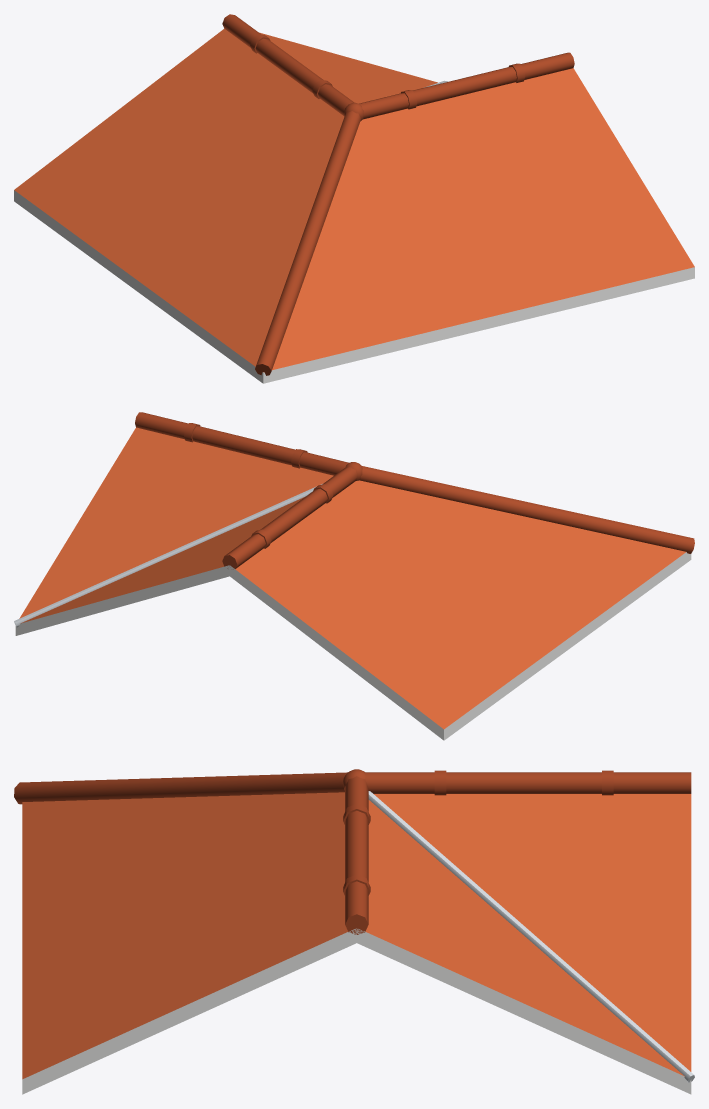
Rendered from telhado_canto_l_v4_i50.glb.
3 renders of one model, top to bottom at view 1: azimuth 30°, elevation 25°; view 2: azimuth 150°, elevation 25°; view 3: azimuth 270°, elevation 25°, orthographic. The views are drawn at different scales.
Parts seen in each view (by area): view 1: telhado_canto_l_v4_i50; view 2: telhado_canto_l_v4_i50; view 3: telhado_canto_l_v4_i50.
Part boxes in pixels (bbox=[...]): telhado_canto_l_v4_i50: bbox=[14, 14, 694, 383]; telhado_canto_l_v4_i50: bbox=[14, 412, 694, 740]; telhado_canto_l_v4_i50: bbox=[14, 769, 694, 1094].
Size of the model in its own units: 4.07 by 1.21 by 4.07.
4 materials, 1 textured.
